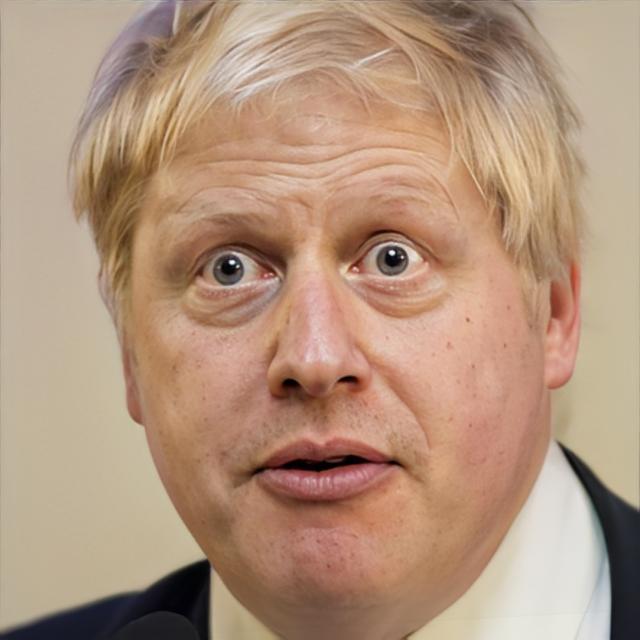surprise: (128, 72, 542, 602)
